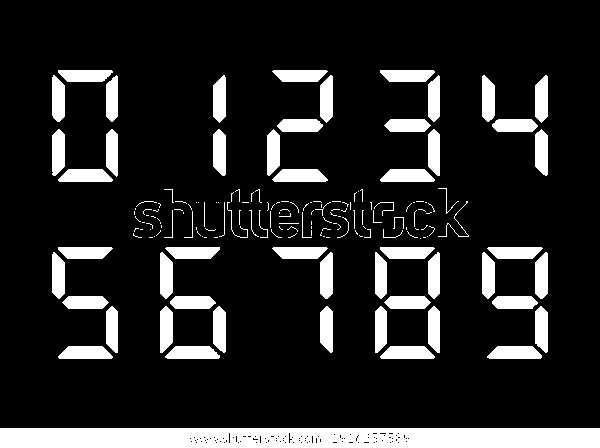eight: (373, 248, 441, 361)
five: (51, 247, 119, 360)
four: (482, 74, 550, 175)
nine: (481, 247, 549, 359)
one: (210, 75, 227, 176)
seven: (271, 247, 334, 353)
six: (158, 247, 226, 359)
three: (377, 68, 441, 180)
two: (267, 70, 332, 182)
zero: (51, 70, 118, 180)
